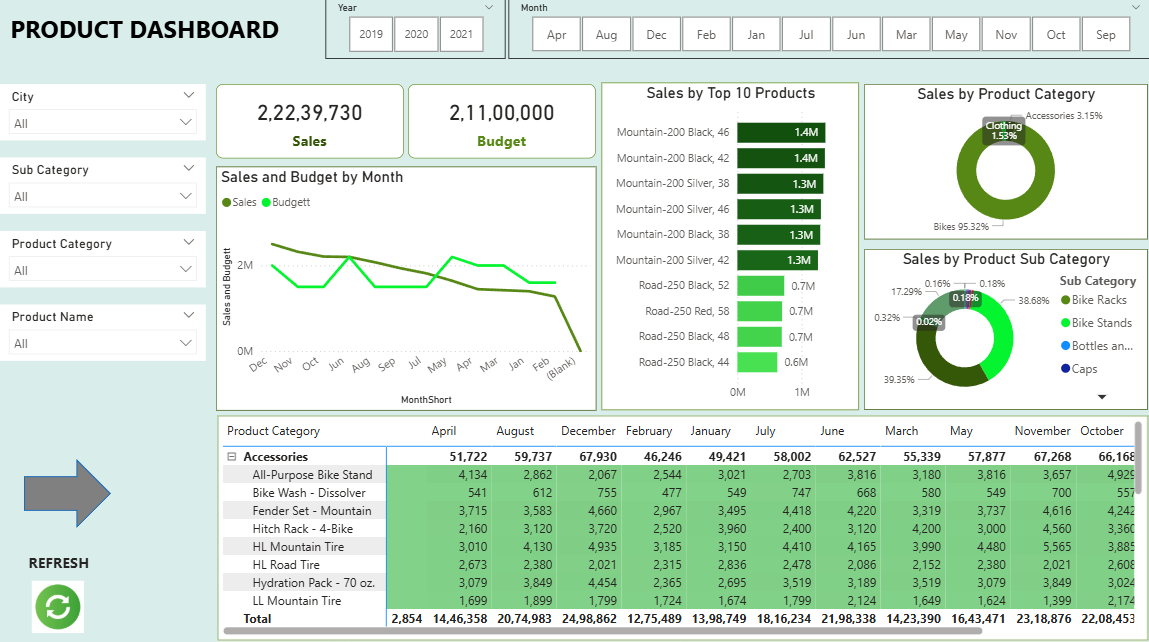

Layout of this report page (visuals, bound fields, positions):
{"tool":"powerbi","page":{"name":"PRODUCTS","canvas":[1280,720],"ordinal":1},"visuals":[{"type":"textbox","box":[0,11.2,321.2,57.5],"z":0},{"type":"slicer","fields":{"Values":["DIM_Calendar.Year"]},"box":[361.2,0,200,68.8],"z":1000},{"type":"slicer","fields":{"Values":["DIM_Calendar.MonthShort"]},"box":[564.9,0,715.4,68.5],"z":2000},{"type":"slicer","fields":{"Values":["DIM_Customers.Customer City"]},"box":[0,96.8,228.7,62.4],"z":3000},{"type":"slicer","fields":{"Values":["DIM_Products.Sub Category"]},"box":[0,178.8,228.7,62.4],"z":4000},{"type":"slicer","fields":{"Values":["DIM_Products.Product Category"]},"box":[0,260.7,228.7,62.4],"z":5000},{"type":"slicer","fields":{"Values":["DIM_Products.Product Name"]},"box":[0,341.4,228.7,62.4],"z":6000},{"type":"donutChart","fields":{"Y":["Metrics.Sales"],"Series":["DIM_Products.Product Category"]},"box":[960,96.2,315,172.5],"z":7000},{"type":"lineChart","title":"Sales and Budget by Month","fields":{"Category":["DIM_Calendar.MonthShort"],"Y":["Metrics.Sales","Metrics.Budgett"]},"box":[240,188.8,422.5,271.2],"z":8000},{"type":"barChart","title":"Sales by Top 10 Products","fields":{"Y":["Metrics.Sales"],"Category":["DIM_Products.Product Name"]},"box":[668.8,95,286.2,363.8],"z":9000},{"type":"image","box":[26.7,643.3,75,68.3],"z":10000},{"type":"textbox","box":[26.7,611.7,228.3,31.7],"z":11000},{"type":"card","fields":{"Values":["Metrics.Sales"]},"box":[240,96.2,208.8,82.5],"z":12000},{"type":"card","fields":{"Values":["Metrics.Budgett"]},"box":[453.8,96.2,208.8,82.5],"z":13000},{"type":"donutChart","title":"Sales by Product Sub Category","fields":{"Y":["Metrics.Sales"],"Series":["DIM_Products.Sub Category"]},"box":[960,280,315,178.8],"z":14000},{"type":"pivotTable","fields":{"Rows":["DIM_Products.Product Category","DIM_Products.Product Name"],"Columns":["DIM_Calendar.Month"],"Values":["Metrics.Sales"]},"box":[241.2,465,1033.8,250],"z":15000},{"type":"shape","box":[26.7,513.3,96.7,76.7],"z":16000}]}

Visuals, with their boxes in screenshot pixels (x1, y1, x2, y2), scaled from the page's 1280x720 canvas onto the 1149x642 screenshot:
textbox: (0, 10, 288, 61)
slicer - DIM_Calendar.Year: (324, 0, 504, 61)
slicer - DIM_Calendar.MonthShort: (507, 0, 1148, 61)
slicer - DIM_Customers.Customer City: (0, 86, 205, 142)
slicer - DIM_Products.Sub Category: (0, 159, 205, 215)
slicer - DIM_Products.Product Category: (0, 232, 205, 288)
slicer - DIM_Products.Product Name: (0, 304, 205, 360)
donutChart - Metrics.Sales x DIM_Products.Product Category: (862, 86, 1145, 240)
"Sales and Budget by Month" lineChart: (215, 168, 595, 410)
"Sales by Top 10 Products" barChart: (600, 85, 857, 409)
image: (24, 574, 91, 635)
textbox: (24, 545, 229, 574)
card - Metrics.Sales: (215, 86, 403, 159)
card - Metrics.Budgett: (407, 86, 595, 159)
"Sales by Product Sub Category" donutChart: (862, 250, 1145, 409)
pivotTable - DIM_Products.Product Category x DIM_Products.Product Name: (217, 415, 1145, 638)
shape: (24, 458, 111, 526)
